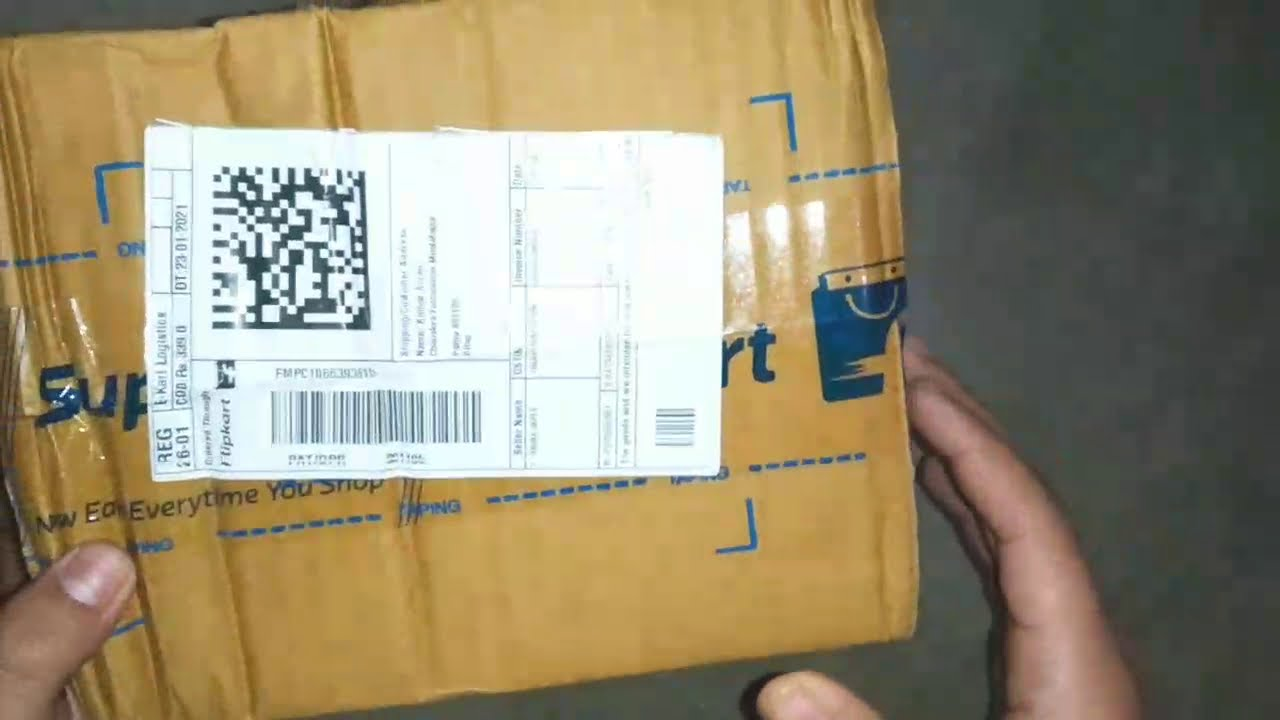QRCode: (140, 128, 707, 480)
